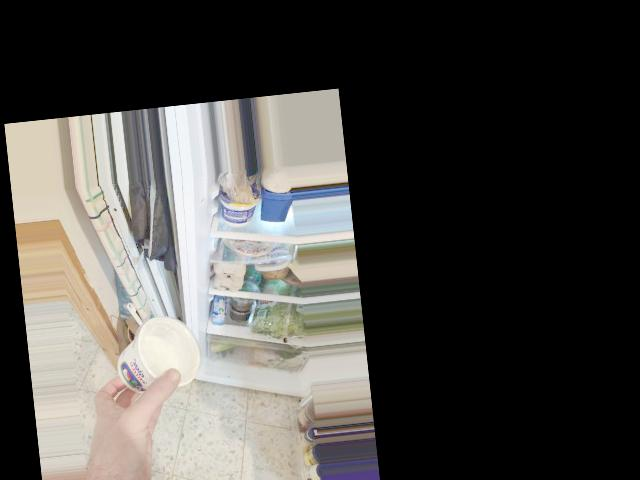cotage: (109, 313, 199, 399)
